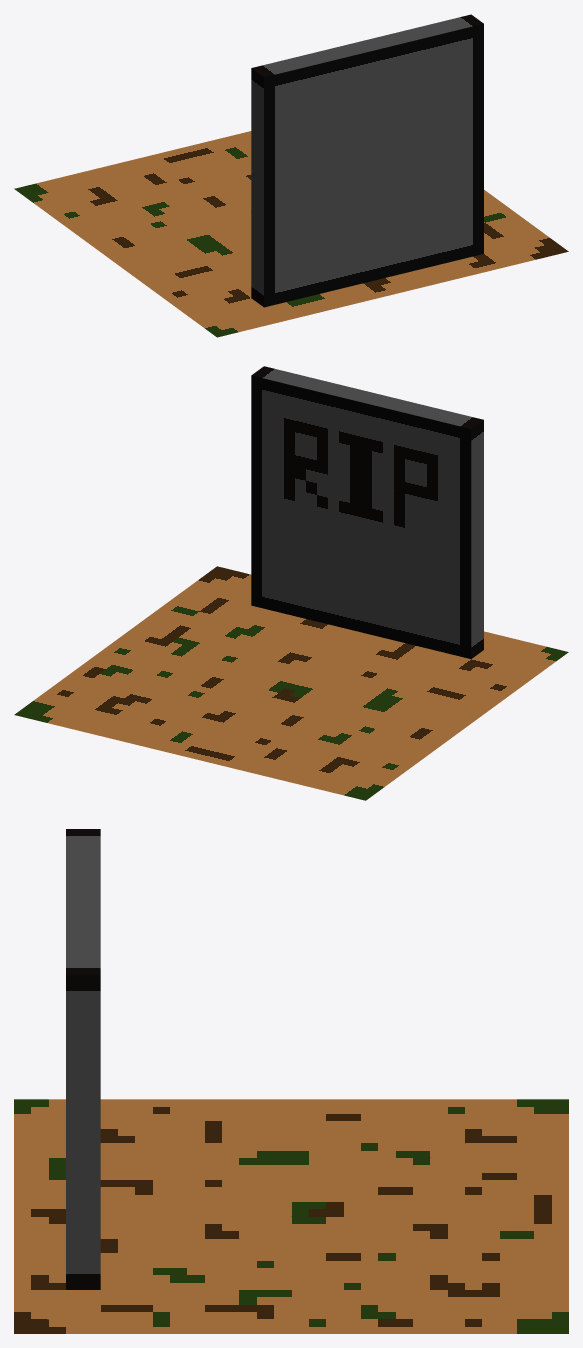
File: TrampaLapida.fbx
3 renders of one model, top to bottom at view 1: azimuth 30°, elevation 25°; view 2: azimuth 150°, elevation 25°; view 3: azimuth 270°, elevation 25°, orthographic. The views are drawn at different scales.
Visible parts, largest first — view 1: Lapida, Tierra; view 2: Tierra, Lapida; view 3: Tierra, Lapida.
Boxes of the visible parts, box(x1,y1,x2,y2) form: Lapida: box(251, 14, 483, 307); Tierra: box(14, 131, 568, 337); Tierra: box(14, 566, 568, 800); Lapida: box(251, 366, 483, 658); Tierra: box(14, 1099, 568, 1333); Lapida: box(66, 829, 100, 1289).
Bounding box in the file's own units: 100 × 62.5 × 100.
Materials: 1 (1 with a texture image).
